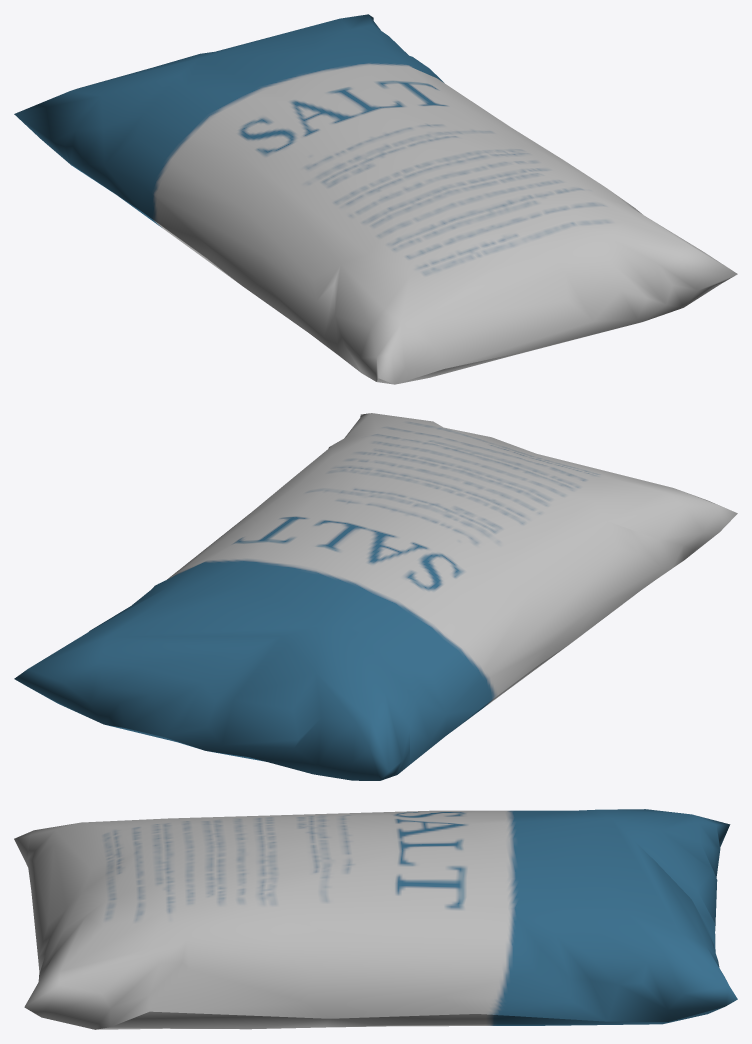
File: Package_A.fbx
The picture shows the model from 3 angles, top to bottom: view 1: azimuth 30°, elevation 25°; view 2: azimuth 150°, elevation 25°; view 3: azimuth 270°, elevation 25°; orthographic projection. The views are drawn at different scales.
Parts seen in each view (by area): view 1: Package_A_LOD0; view 2: Package_A_LOD0; view 3: Package_A_LOD0.
Part boxes in pixels (x1,y1,x2,y2): Package_A_LOD0: [14, 14, 737, 384]; Package_A_LOD0: [14, 413, 737, 780]; Package_A_LOD0: [14, 809, 737, 1029].
Size of what is drawn, in the model's own units: 12.8 by 3.54 by 21.05.
